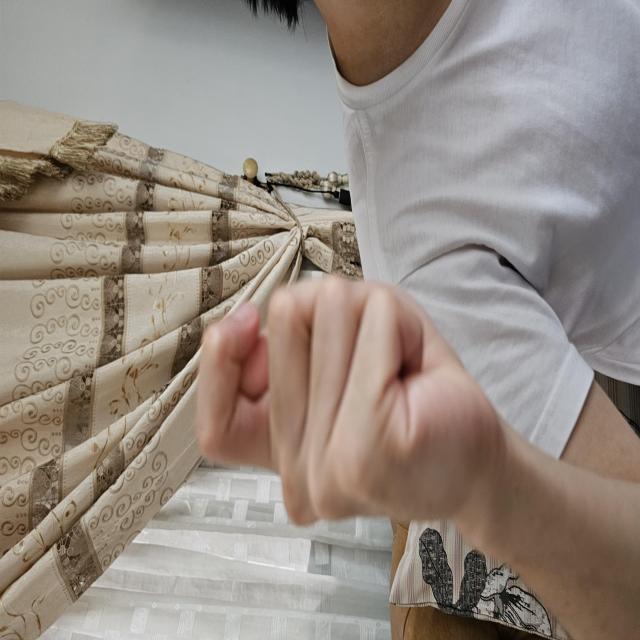T: (110, 192, 372, 504)
